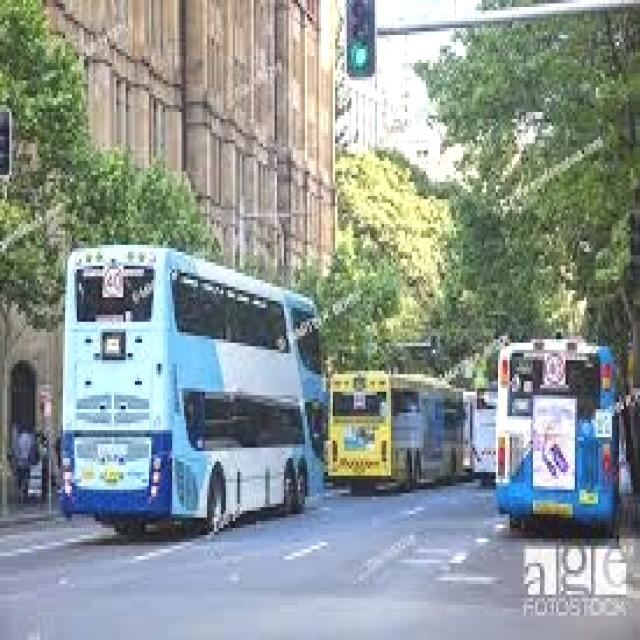bus: (55, 230, 340, 524), (487, 318, 635, 561), (332, 342, 470, 499)
